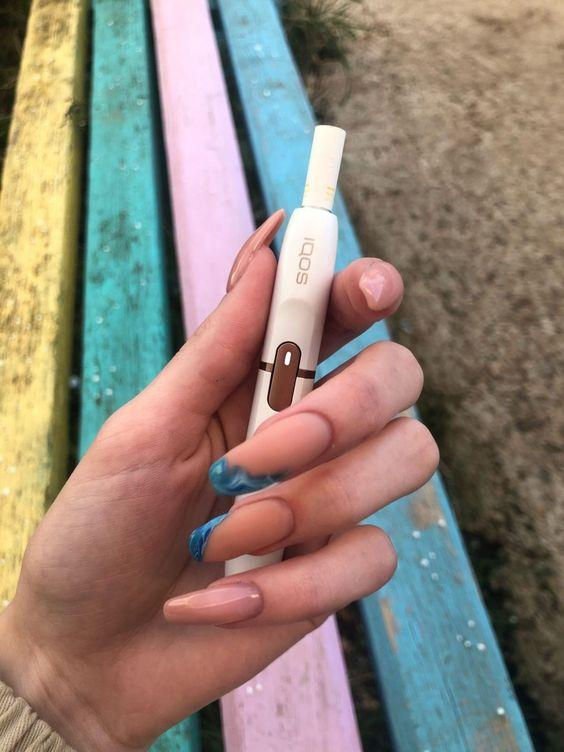iqos: (223, 125, 345, 580)
